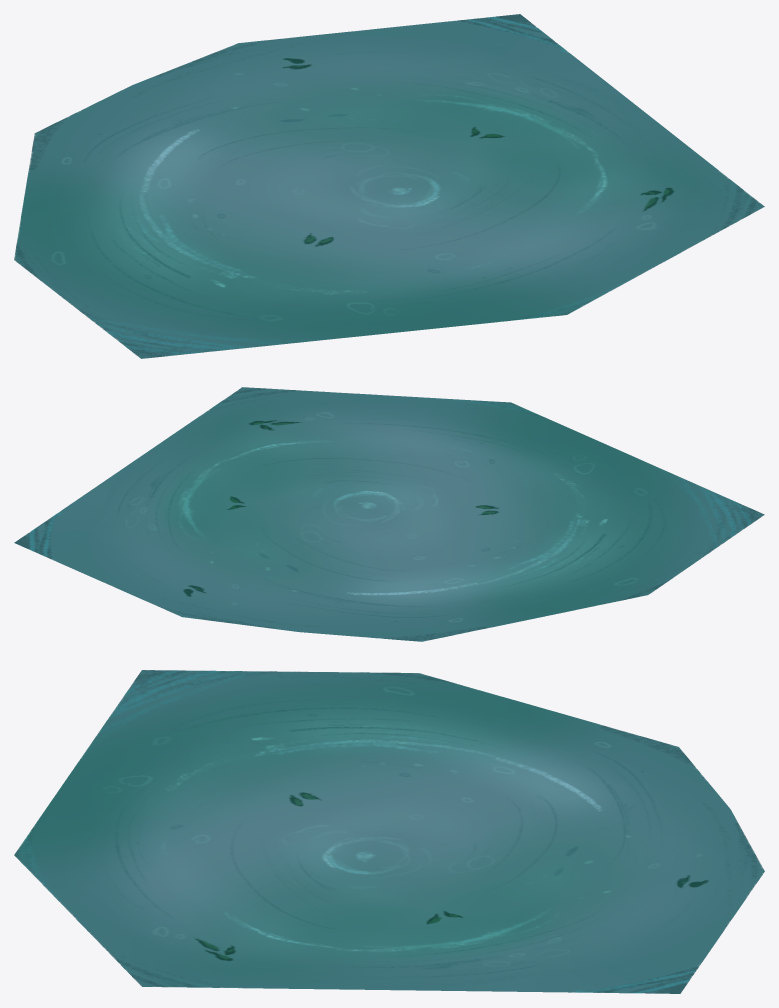
Rendered from water.fbx.
3 renders of one model, top to bottom at view 1: azimuth 30°, elevation 25°; view 2: azimuth 150°, elevation 25°; view 3: azimuth 270°, elevation 25°, orthographic. The views are drawn at different scales.
Parts seen in each view (by area): view 1: water; view 2: water; view 3: water.
Boxes of the visible parts, bbox=[...] form: water: bbox=[14, 14, 764, 358]; water: bbox=[14, 387, 764, 641]; water: bbox=[14, 670, 764, 993].
Size of the model in its own units: 3510 by 0 by 3439.
1 material, 1 textured.
